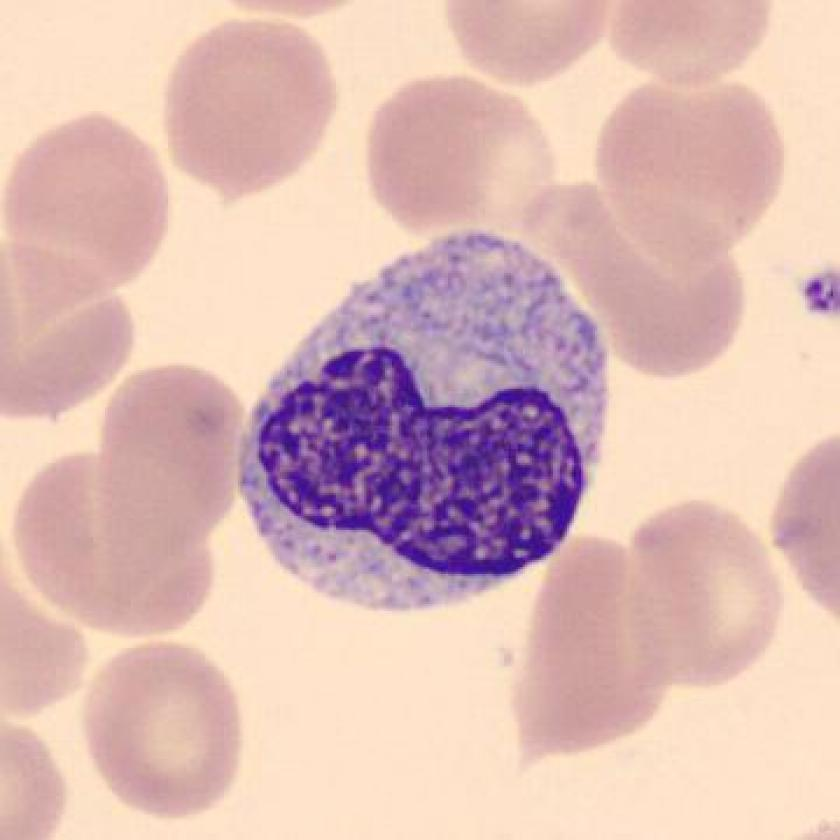monocyte: (220, 219, 631, 631)
